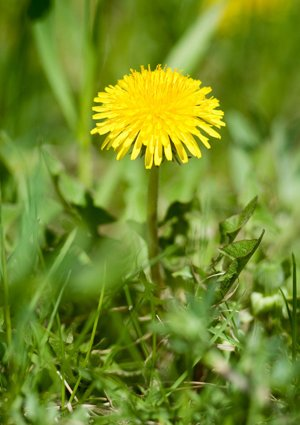dandelion: (91, 64, 225, 160)
